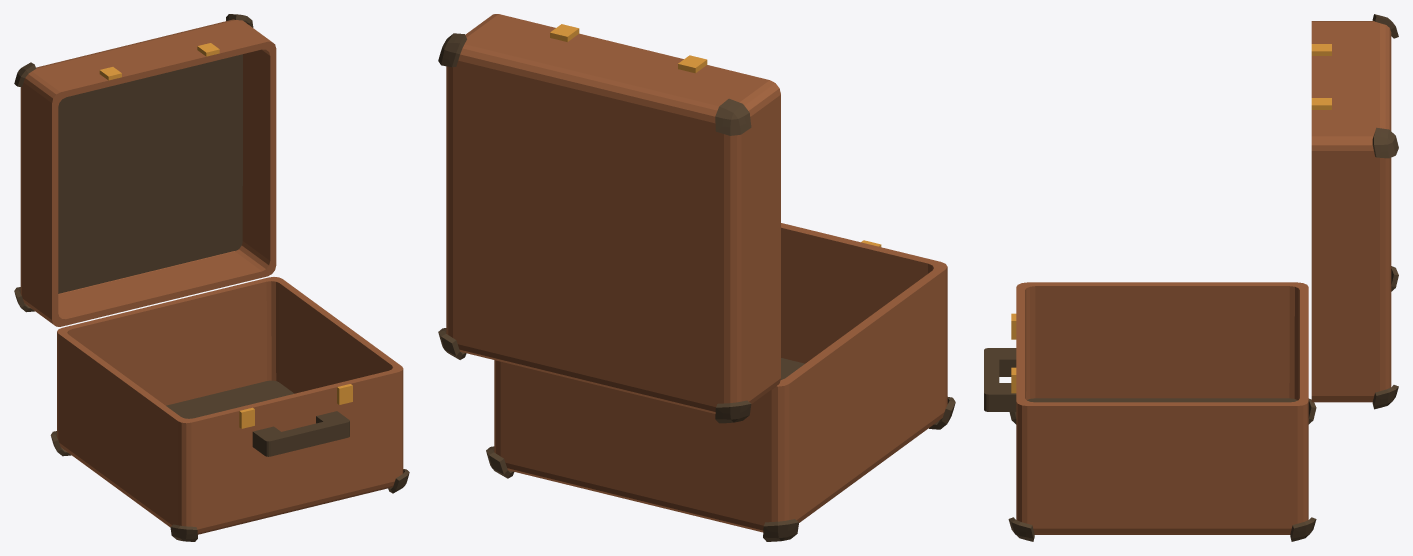
Rendered from suitcase_low_poly.glb.
3 views of the same model, side by side, from view 1: azimuth 30°, elevation 25°; view 2: azimuth 150°, elevation 25°; view 3: azimuth 270°, elevation 25° (orthographic). The views are drawn at different scales.
Parts seen in each view (by area): view 1: Top, Bottom, Plane; view 2: Top, Bottom; view 3: Bottom, Top, Plane.
Boxes of the visible parts, <box> form: Top: <box>14,14,276,326</box>; Bottom: <box>50,277,409,541</box>; Plane: <box>166,380,294,418</box>; Top: <box>438,14,780,423</box>; Bottom: <box>486,223,955,541</box>; Bottom: <box>984,282,1316,541</box>; Top: <box>1311,14,1398,409</box>; Plane: <box>1027,398,1297,402</box>.
Bounding box in the file's own units: 2.11 × 3.11 × 2.84.
